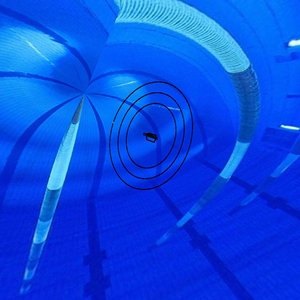circle: (107, 79, 199, 194)
submarine: (139, 128, 160, 149)
